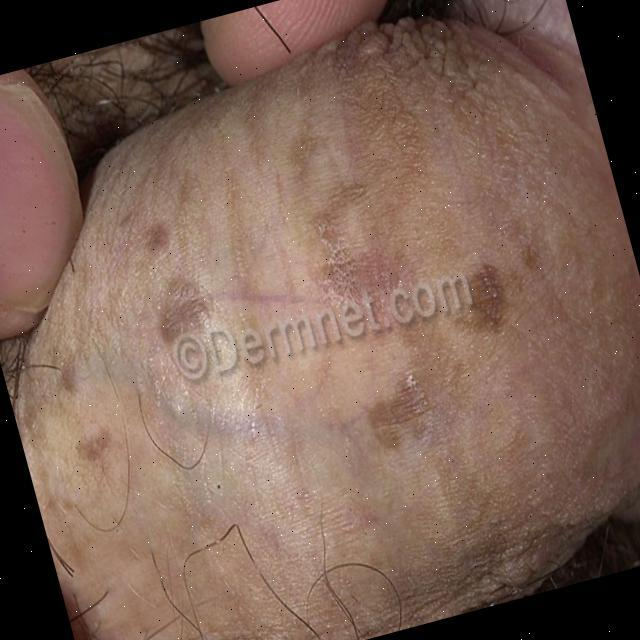Shingles: (280, 129, 510, 448), (131, 211, 212, 346), (72, 426, 112, 462), (48, 360, 83, 396)
